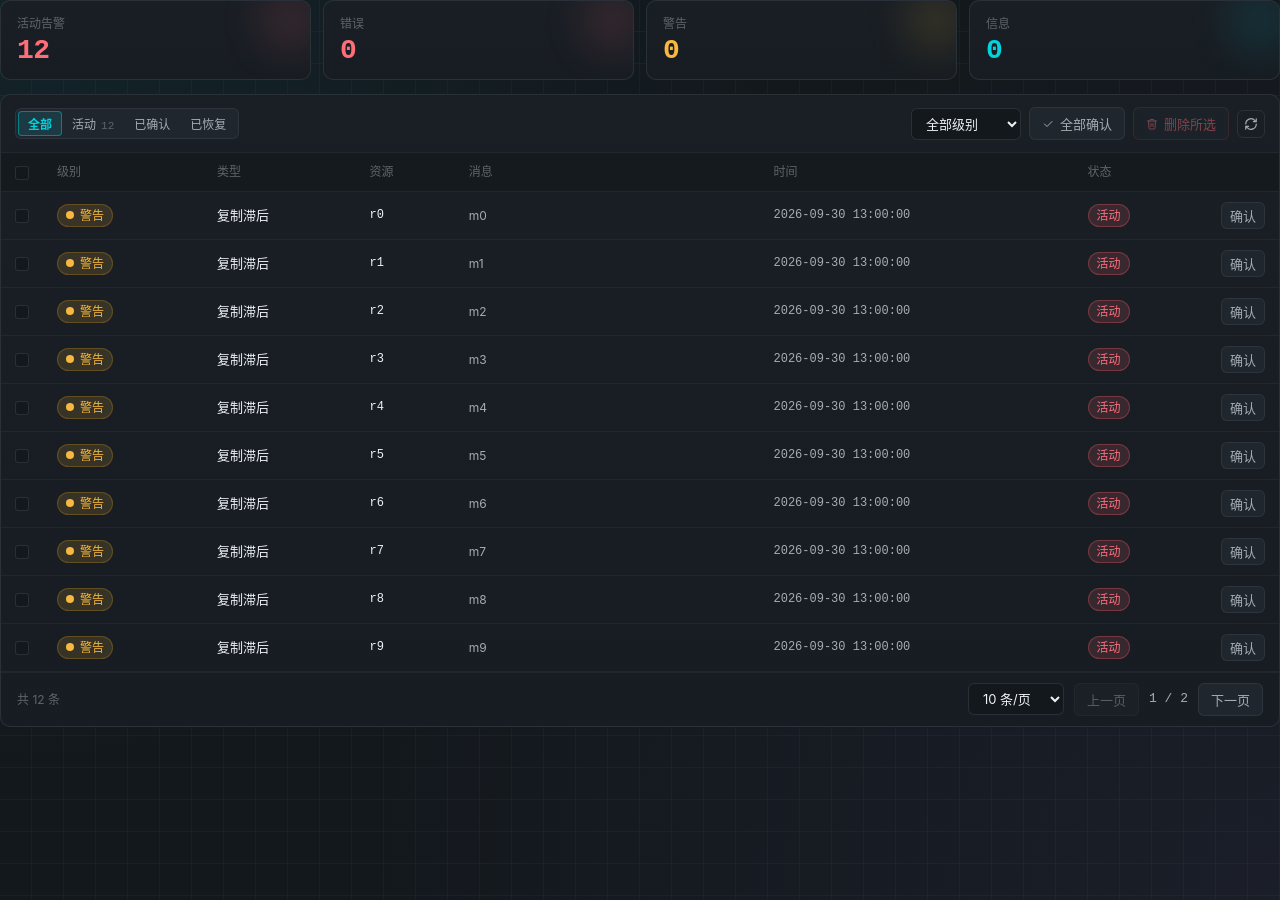
Scenario: 告警中心 › 表头勾选只选当前页
This screenshot has width=1280, height=900.
Expected: the text "共 12 条" is shown, [17,691,60,708]
Click the checkbox named "选择本页全部告警": (22, 173) [15,166,29,180]
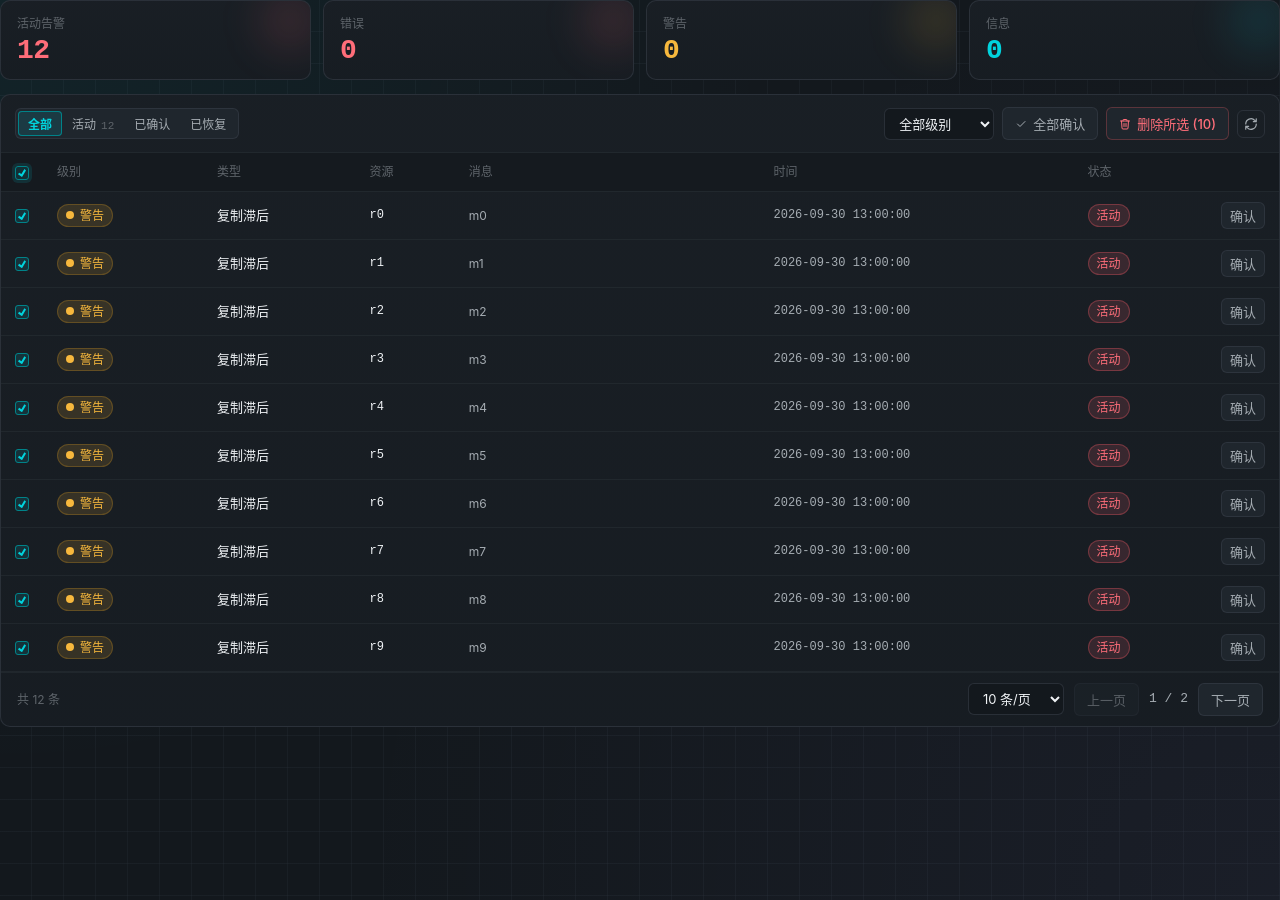
Result: the button "删除所选 (10)" is shown at [1106,107,1229,140]
